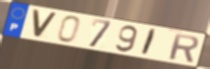0: (55, 15, 84, 44)
7: (89, 18, 113, 50)
9: (114, 25, 139, 53)
I: (139, 28, 159, 57)
R: (168, 32, 201, 64)
V: (31, 8, 59, 40)
